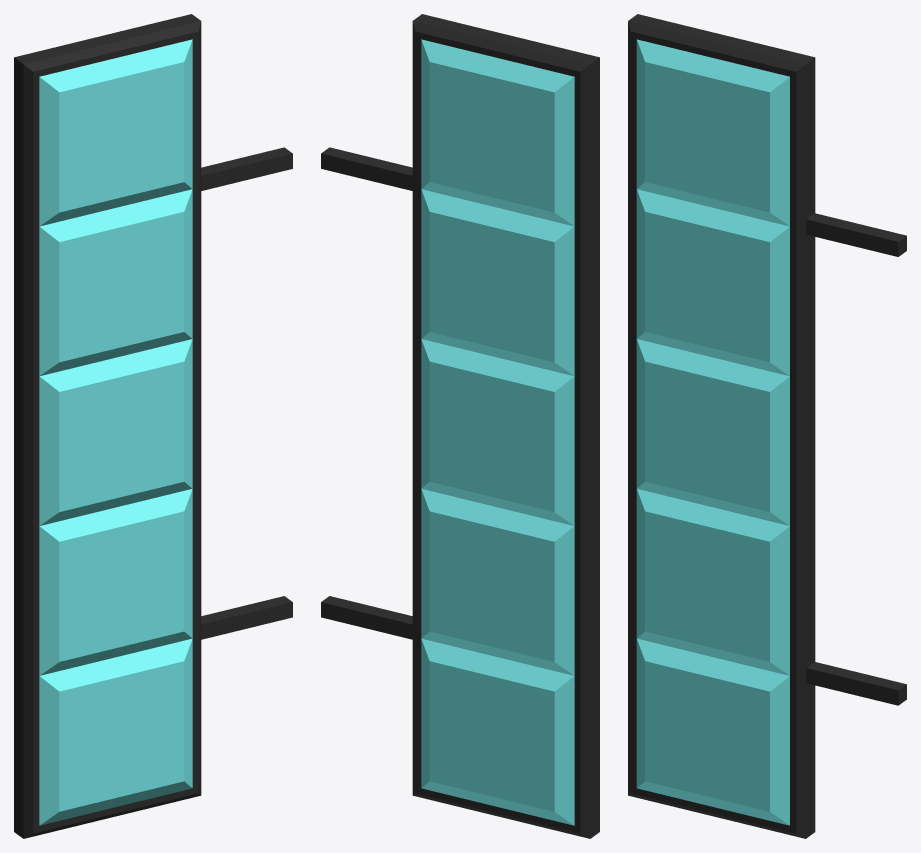
The model's file is NeonSign_Long_01.fbx.
3 views of the same model, side by side, from view 1: azimuth 30°, elevation 25°; view 2: azimuth 150°, elevation 25°; view 3: azimuth 330°, elevation 25° (orthographic).
Parts seen in each view (by area): view 1: LongSign_01; view 2: LongSign_01; view 3: LongSign_01.
Part boxes in pixels (x1=…): LongSign_01: x1=14, y1=14, x2=292, y2=838; LongSign_01: x1=321, y1=14, x2=599, y2=838; LongSign_01: x1=628, y1=14, x2=906, y2=838.
Size of the model in its own units: 766 by 2102 by 139.
